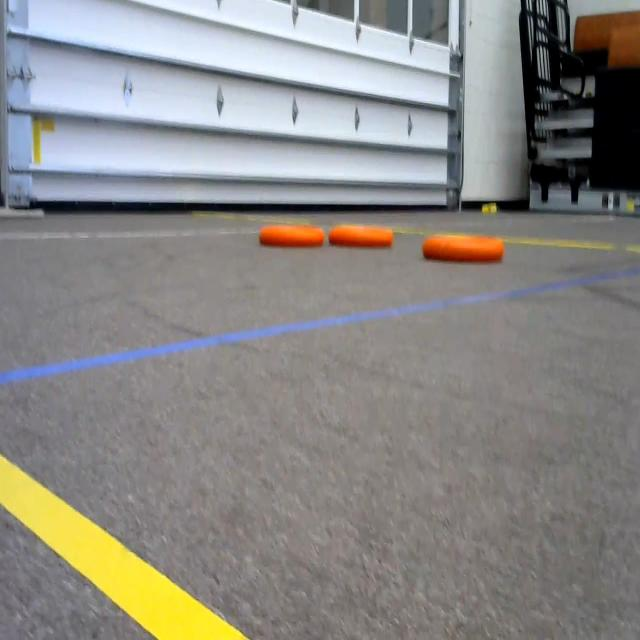note: (416, 224, 514, 273), (329, 211, 402, 251), (256, 219, 328, 252)
